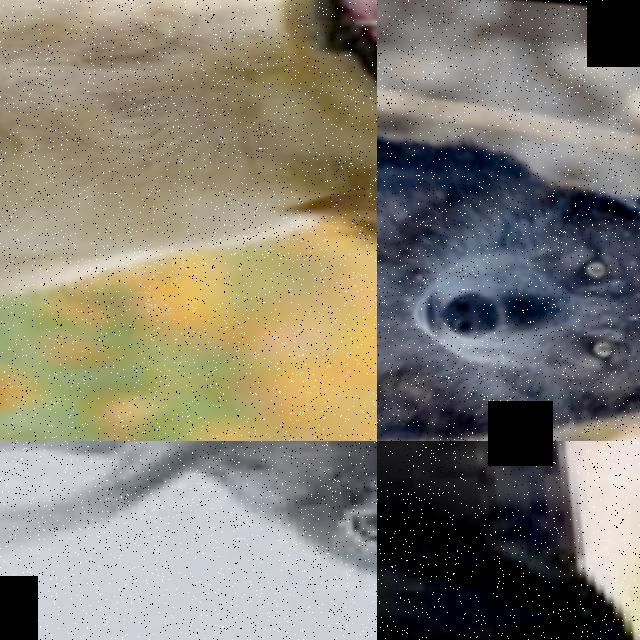dog: (0, 0, 377, 353), (377, 441, 640, 640)
wolf: (377, 6, 640, 441), (0, 441, 377, 640)
